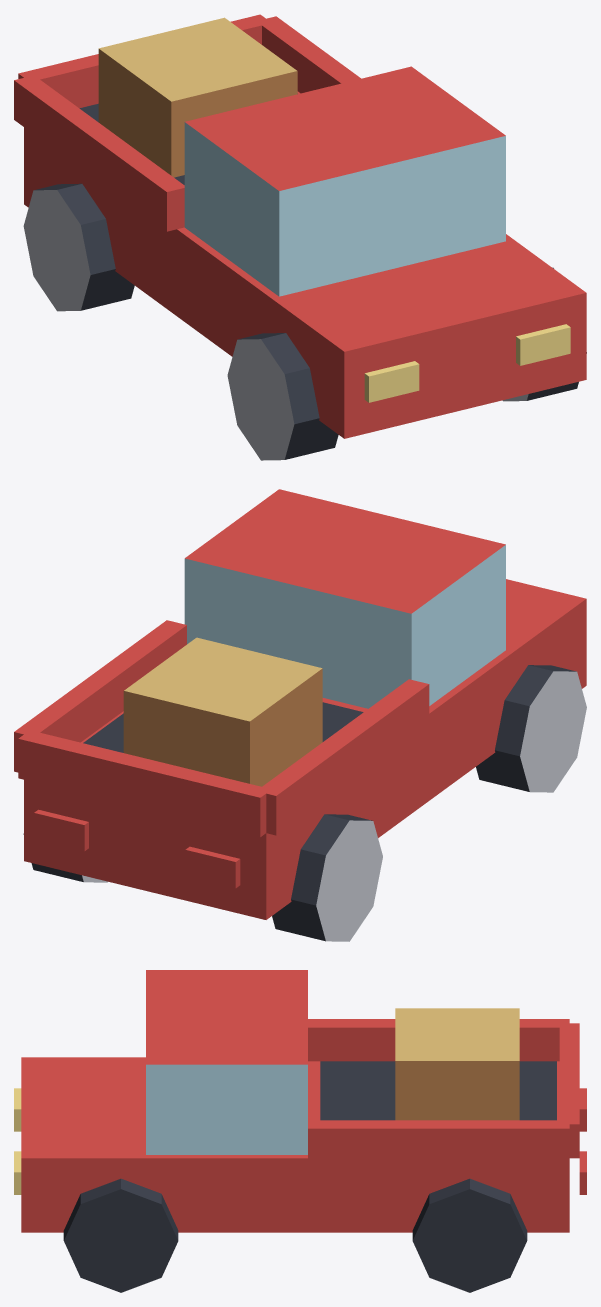
File: vehicle_pickup.glb
3 views of the same model, one above another, from view 1: azimuth 30°, elevation 25°; view 2: azimuth 150°, elevation 25°; view 3: azimuth 270°, elevation 25° (orthographic). The views are drawn at different scales.
Parts seen in each view (by area): view 1: vehicle_pickup; view 2: vehicle_pickup; view 3: vehicle_pickup.
Boxes of the visible parts, x1,y1,x2,y2 form: vehicle_pickup: (14, 14, 586, 460); vehicle_pickup: (14, 489, 586, 941); vehicle_pickup: (14, 970, 586, 1292).
Bounding box in the file's own units: 0.116 × 0.095 × 0.23.
